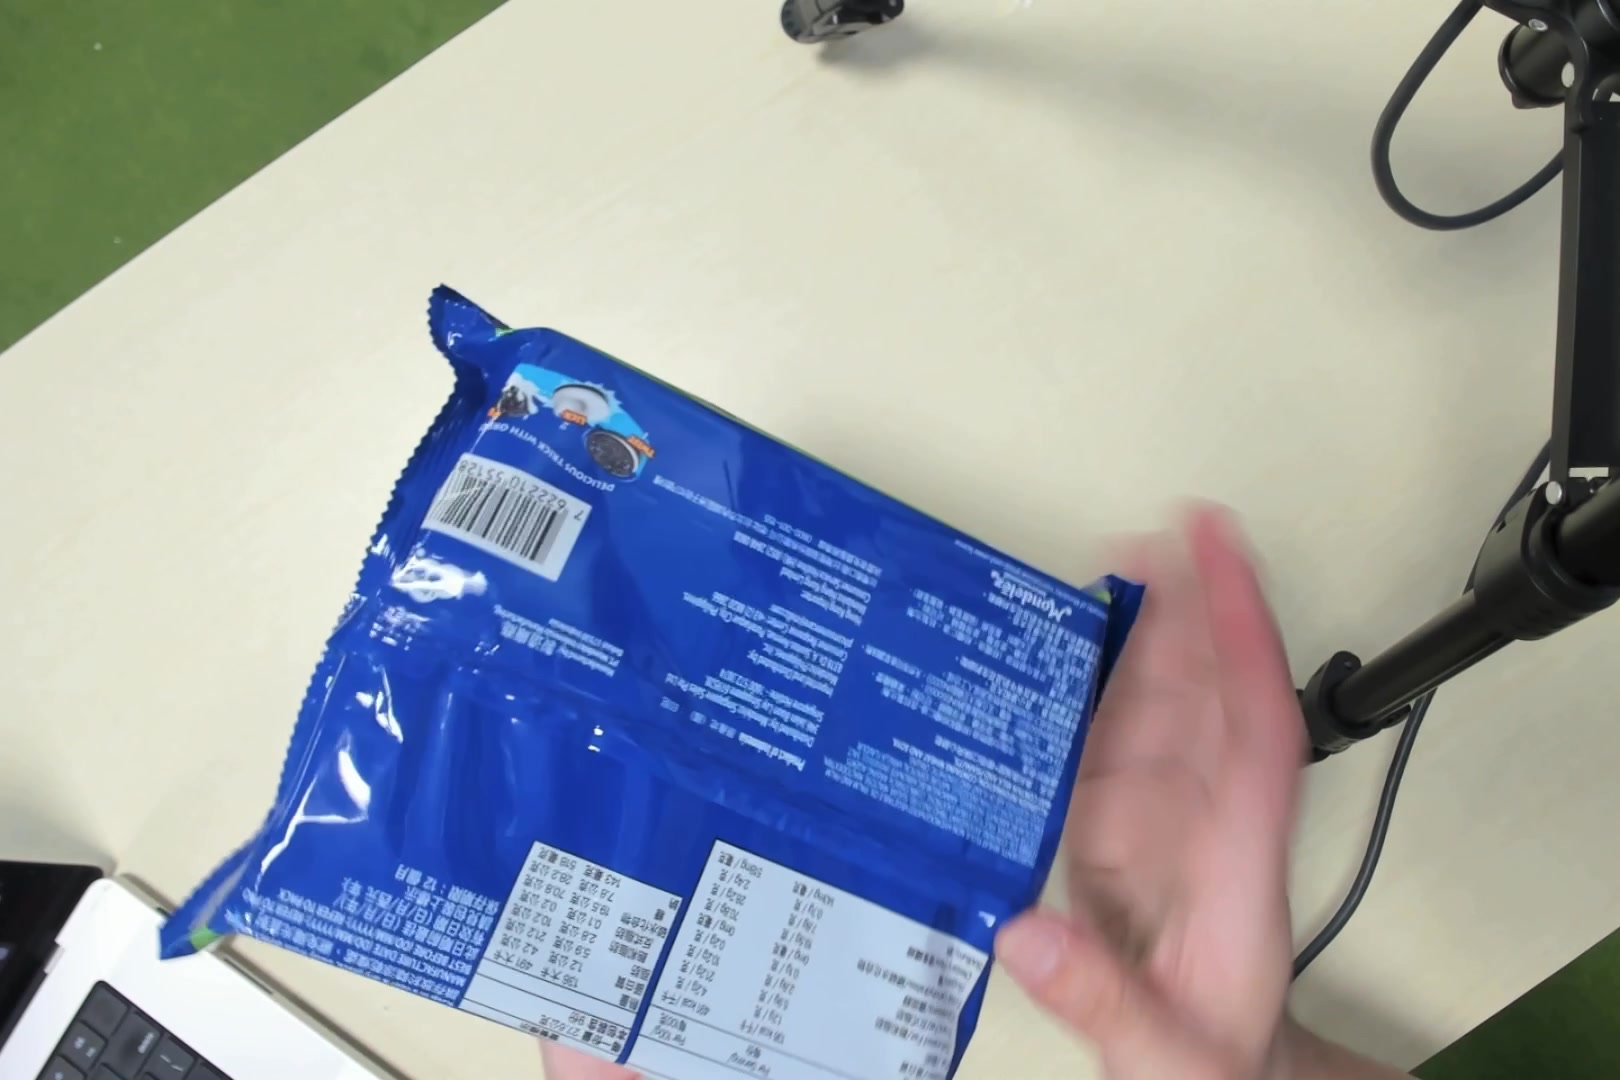SweetsChocolatesOthers_200-299g_Halal_NonHealthy: (337, 347, 1017, 1049)
